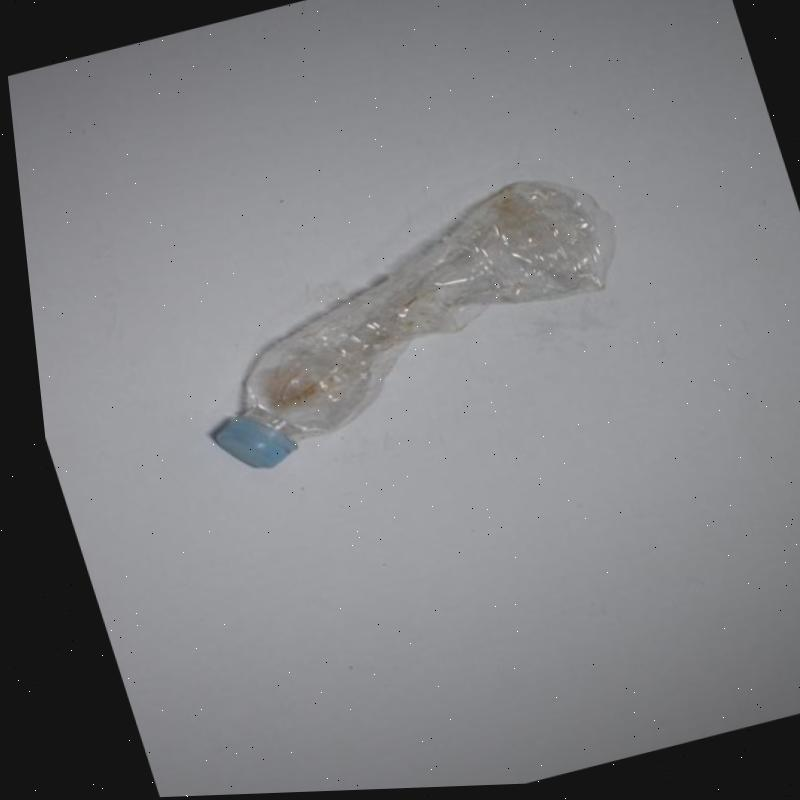botella: (143, 163, 662, 483)
